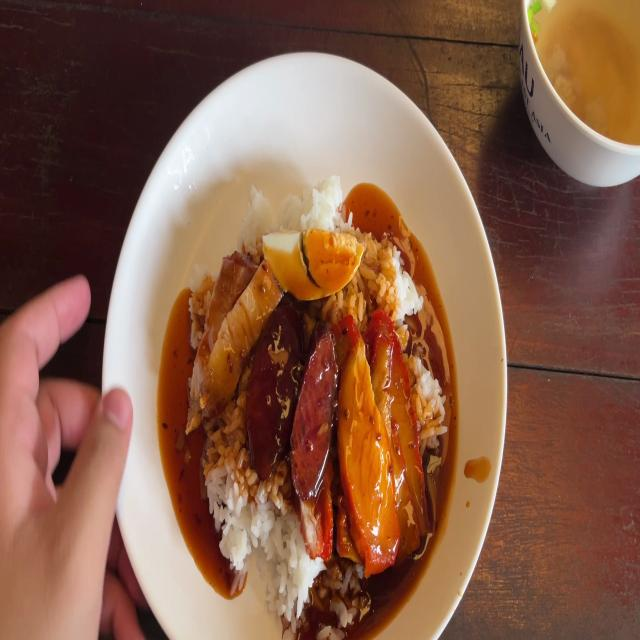red_pork_and_crispy_pork: (264, 231, 366, 297)
stir_fried_basil: (251, 325, 341, 468), (253, 301, 303, 452), (296, 348, 343, 492)
